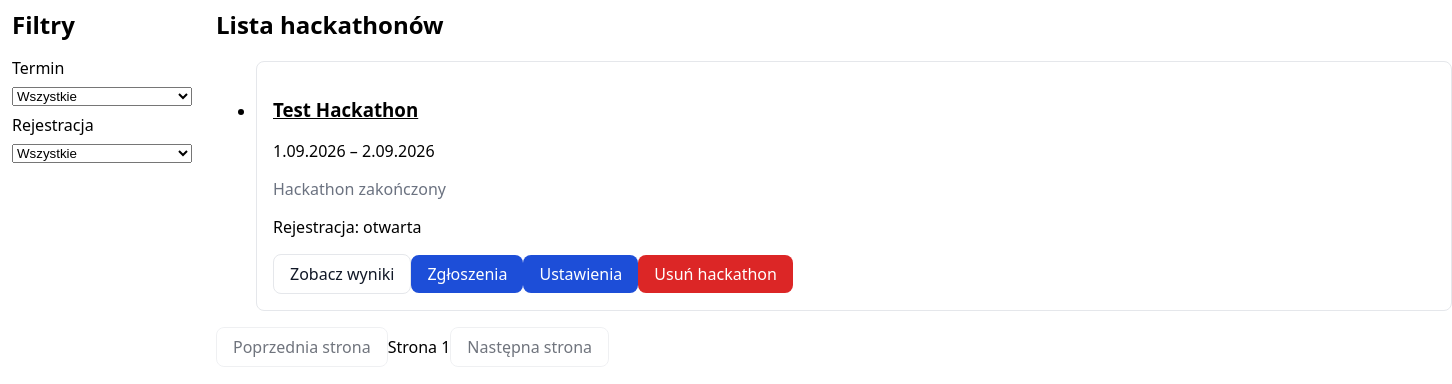
Test: HackathonList › removes a deleted owned hackathon from the list
Click the button "Usuń hackathon" at [716, 274], box [638,255,793,293]
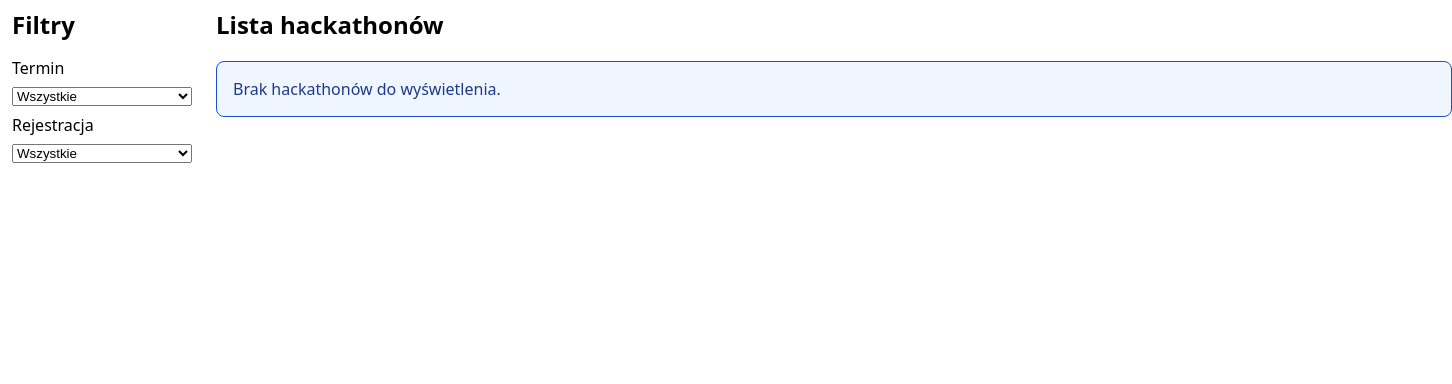
Result: the link "Test Hackathon" is gone
